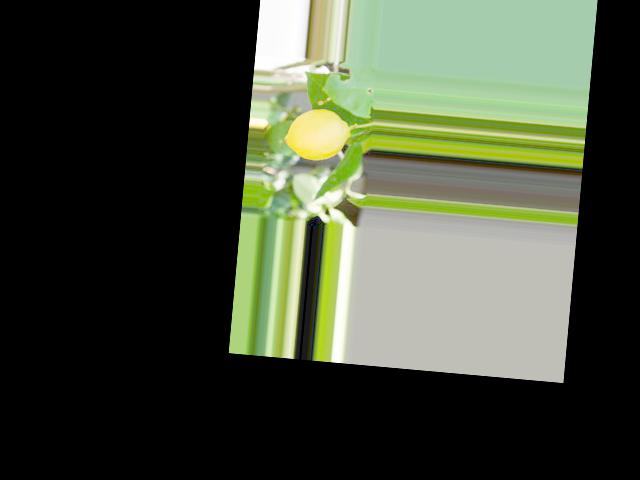lemon: (272, 104, 356, 176)
